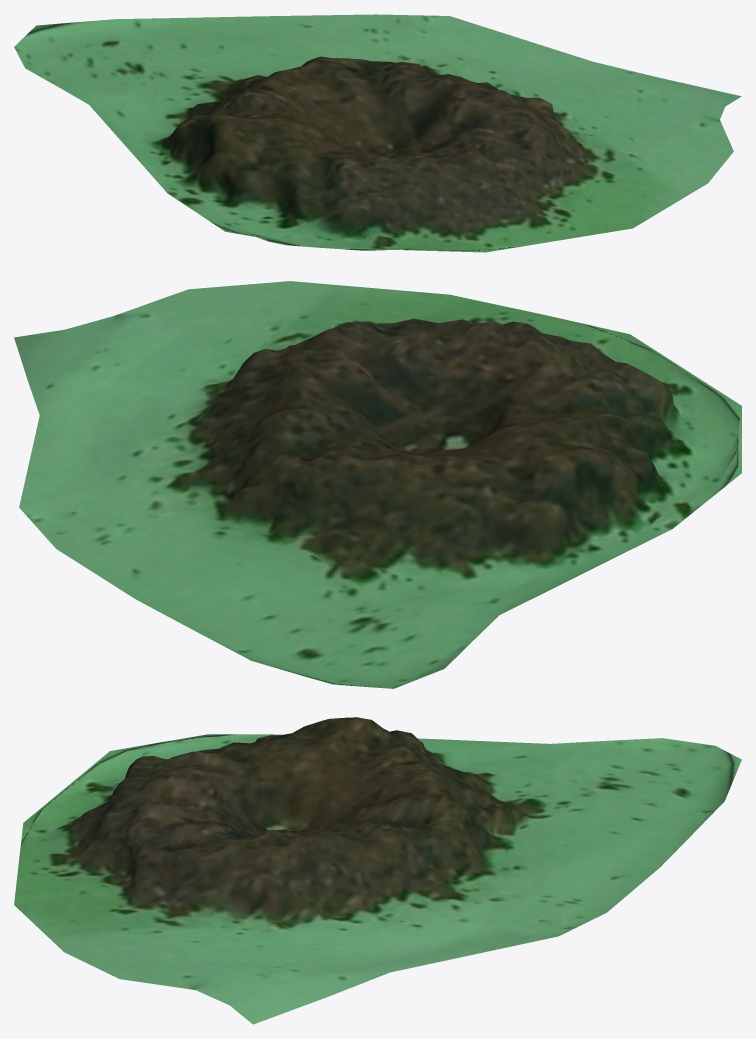
The model's file is dirtpile_dirt_pile_05.fbx.
3 renders of one model, top to bottom at view 1: azimuth 30°, elevation 25°; view 2: azimuth 150°, elevation 25°; view 3: azimuth 270°, elevation 25°, orthographic. The views are drawn at different scales.
Parts seen in each view (by area): view 1: dirt_pile_05; view 2: dirt_pile_05; view 3: dirt_pile_05.
Part boxes in pixels (x1=…): dirt_pile_05: x1=14, y1=14, x2=741, y2=252; dirt_pile_05: x1=14, y1=281, x2=741, y2=688; dirt_pile_05: x1=14, y1=717, x2=741, y2=1024.
Bounding box in the file's own units: 0.1772 × 0.0184 × 0.195.
1 material, 1 textured.
